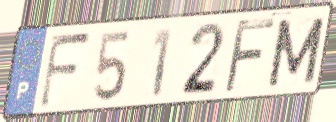1: (150, 25, 175, 100)
2: (181, 20, 228, 96)
5: (90, 28, 133, 105)
F: (36, 31, 93, 111), (221, 16, 277, 96)
M: (265, 14, 328, 89)
